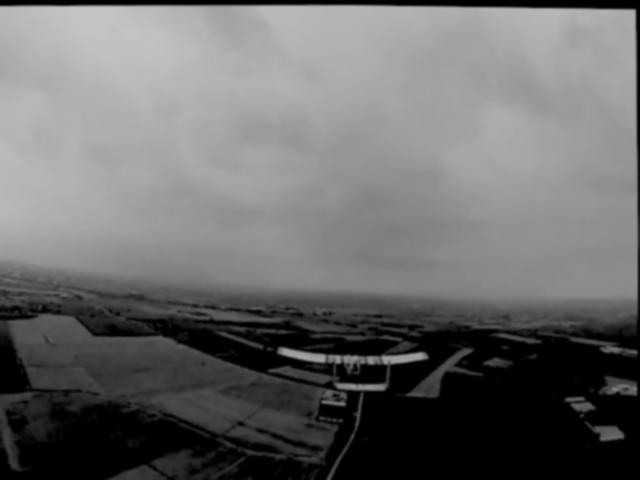hedef: (265, 328, 440, 401)
